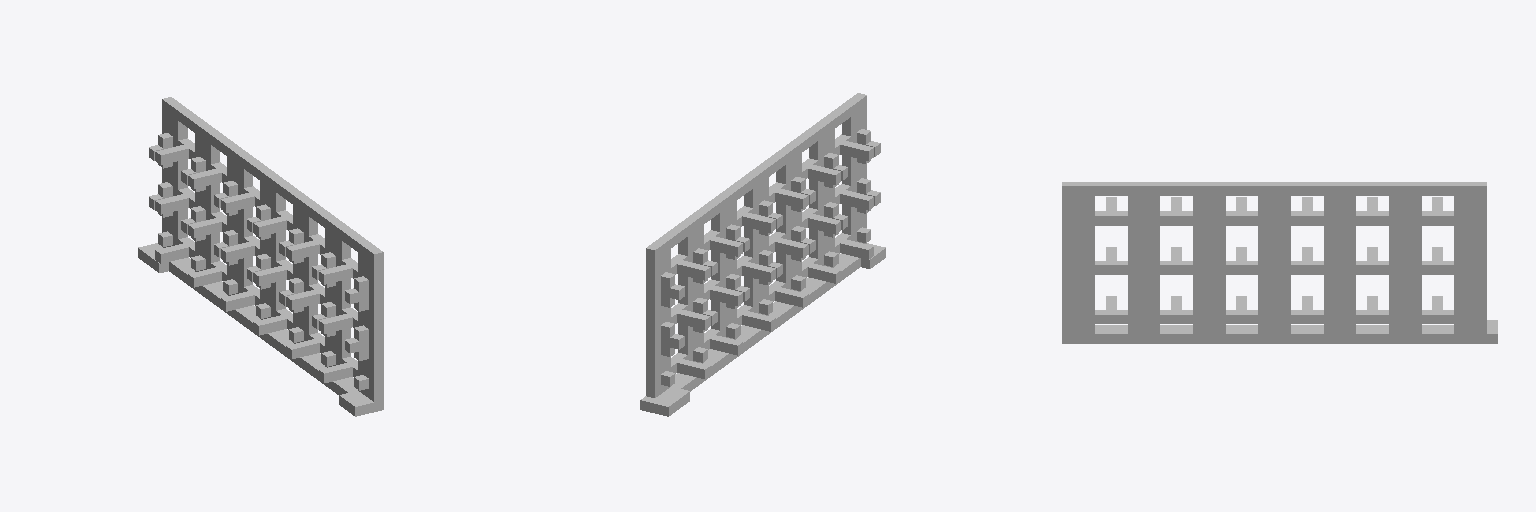
Rendered from stab.obj.
3 views of the same model, side by side, from view 1: azimuth 30°, elevation 25°; view 2: azimuth 150°, elevation 25°; view 3: azimuth 270°, elevation 25° (orthographic).
Size of the model in its own units: 4 by 16 by 40.